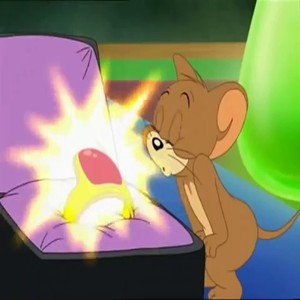Jerry: (152, 54, 262, 298)
